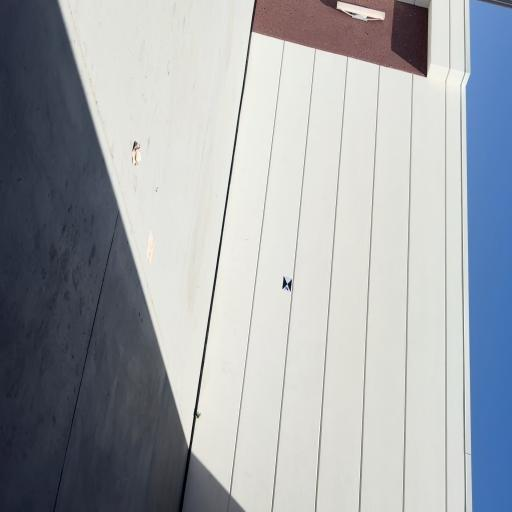target7: (282, 276, 292, 294)
